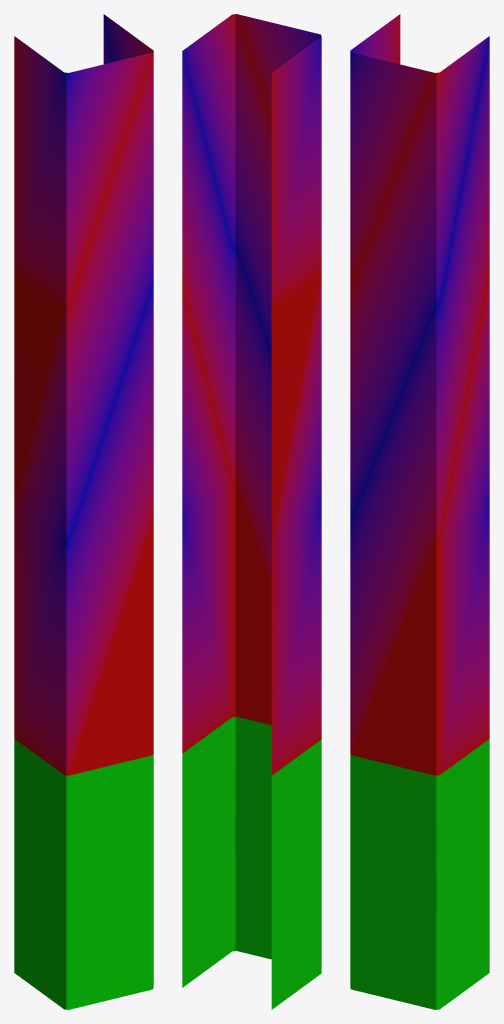
The model's file is ColumnA_B_8.fbx.
3 views of the same model, side by side, from view 1: azimuth 30°, elevation 25°; view 2: azimuth 150°, elevation 25°; view 3: azimuth 330°, elevation 25° (orthographic).
Parts seen in each view (by area): view 1: Cube; view 2: Cube; view 3: Cube.
Boxes of the visible parts, x1=… form: Cube: x1=14, y1=14, x2=153, y2=1009; Cube: x1=182, y1=14, x2=321, y2=1009; Cube: x1=350, y1=14, x2=489, y2=1009.
Bounding box in the file's own units: 80 × 800 × 80.
